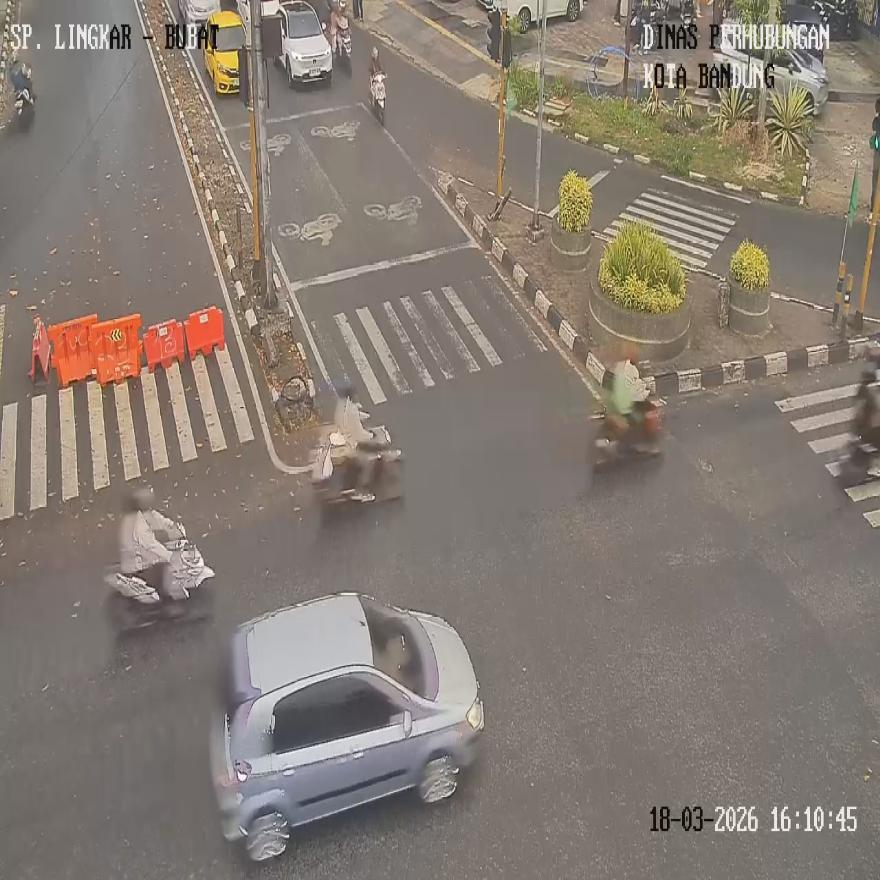Mobil: (211, 592, 484, 860), (275, 0, 333, 87), (202, 10, 245, 90)
Motor: (105, 525, 215, 634), (311, 399, 404, 509), (841, 352, 879, 482), (594, 400, 662, 466), (630, 0, 665, 54), (9, 59, 35, 129), (329, 0, 351, 75), (370, 72, 386, 126), (662, 0, 695, 26), (680, 0, 696, 26)
